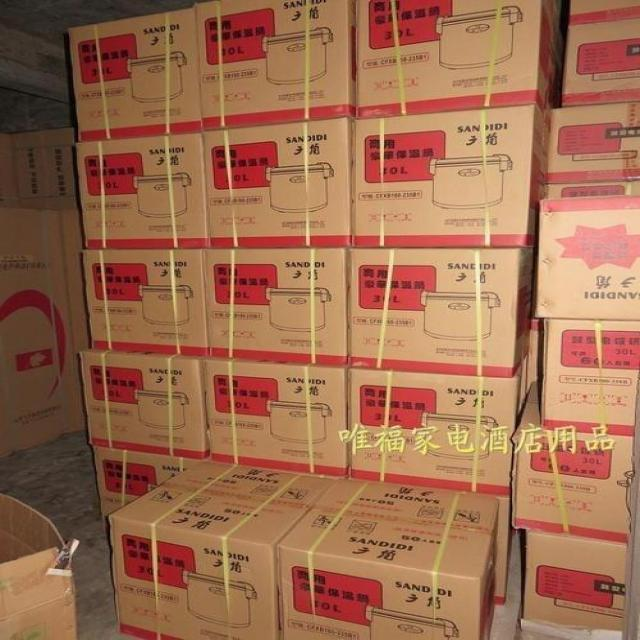box: (97, 451, 330, 640), (286, 476, 502, 640), (347, 93, 540, 250), (344, 0, 570, 122), (350, 240, 533, 374), (344, 364, 539, 482), (196, 118, 358, 260), (191, 346, 360, 478), (189, 0, 360, 125), (71, 5, 202, 143), (76, 126, 218, 252), (75, 340, 218, 462), (208, 244, 348, 364), (518, 404, 640, 540), (77, 245, 206, 362), (528, 193, 640, 316), (536, 312, 640, 440), (519, 531, 640, 633)
